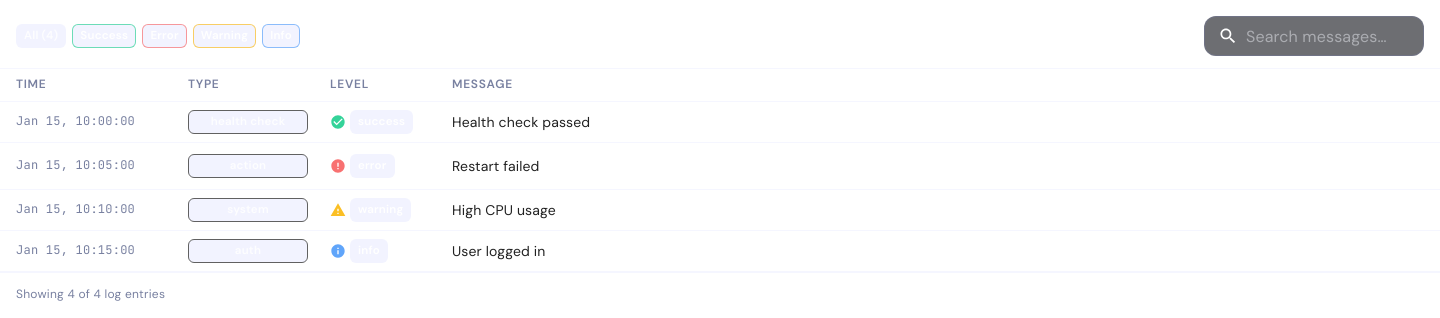
EnvironmentLogs › filters logs by level when chip is clicked
The width and height of the screenshot is (1440, 318).
Expected: the text "Health check passed" is shown, top-left (452, 113), bottom-right (590, 131)
# Click the first 'error' chip (the filter chip in the toolbar)
Click the button "error" at (165, 36), box top-left (142, 24), bottom-right (187, 48)
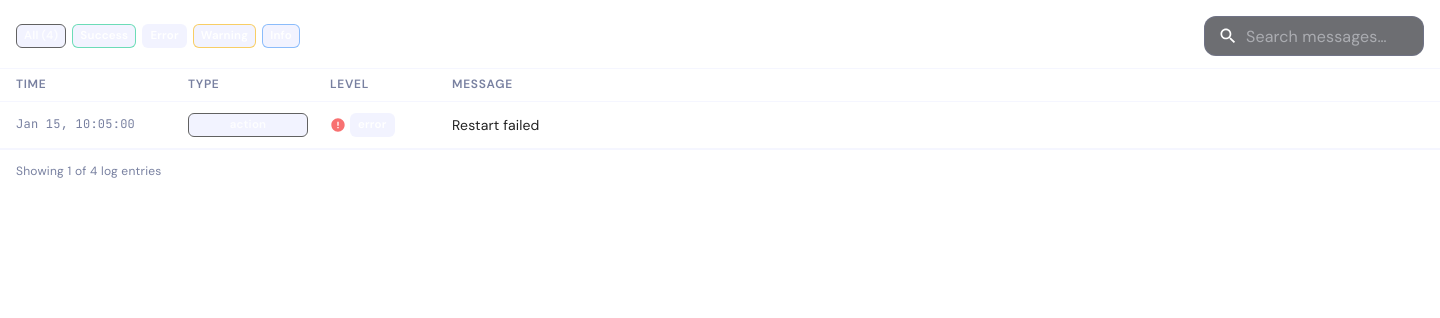
Expected: the text "Restart failed" is shown, top-left (452, 116), bottom-right (540, 134)
Expected: the text "Health check passed" is gone
